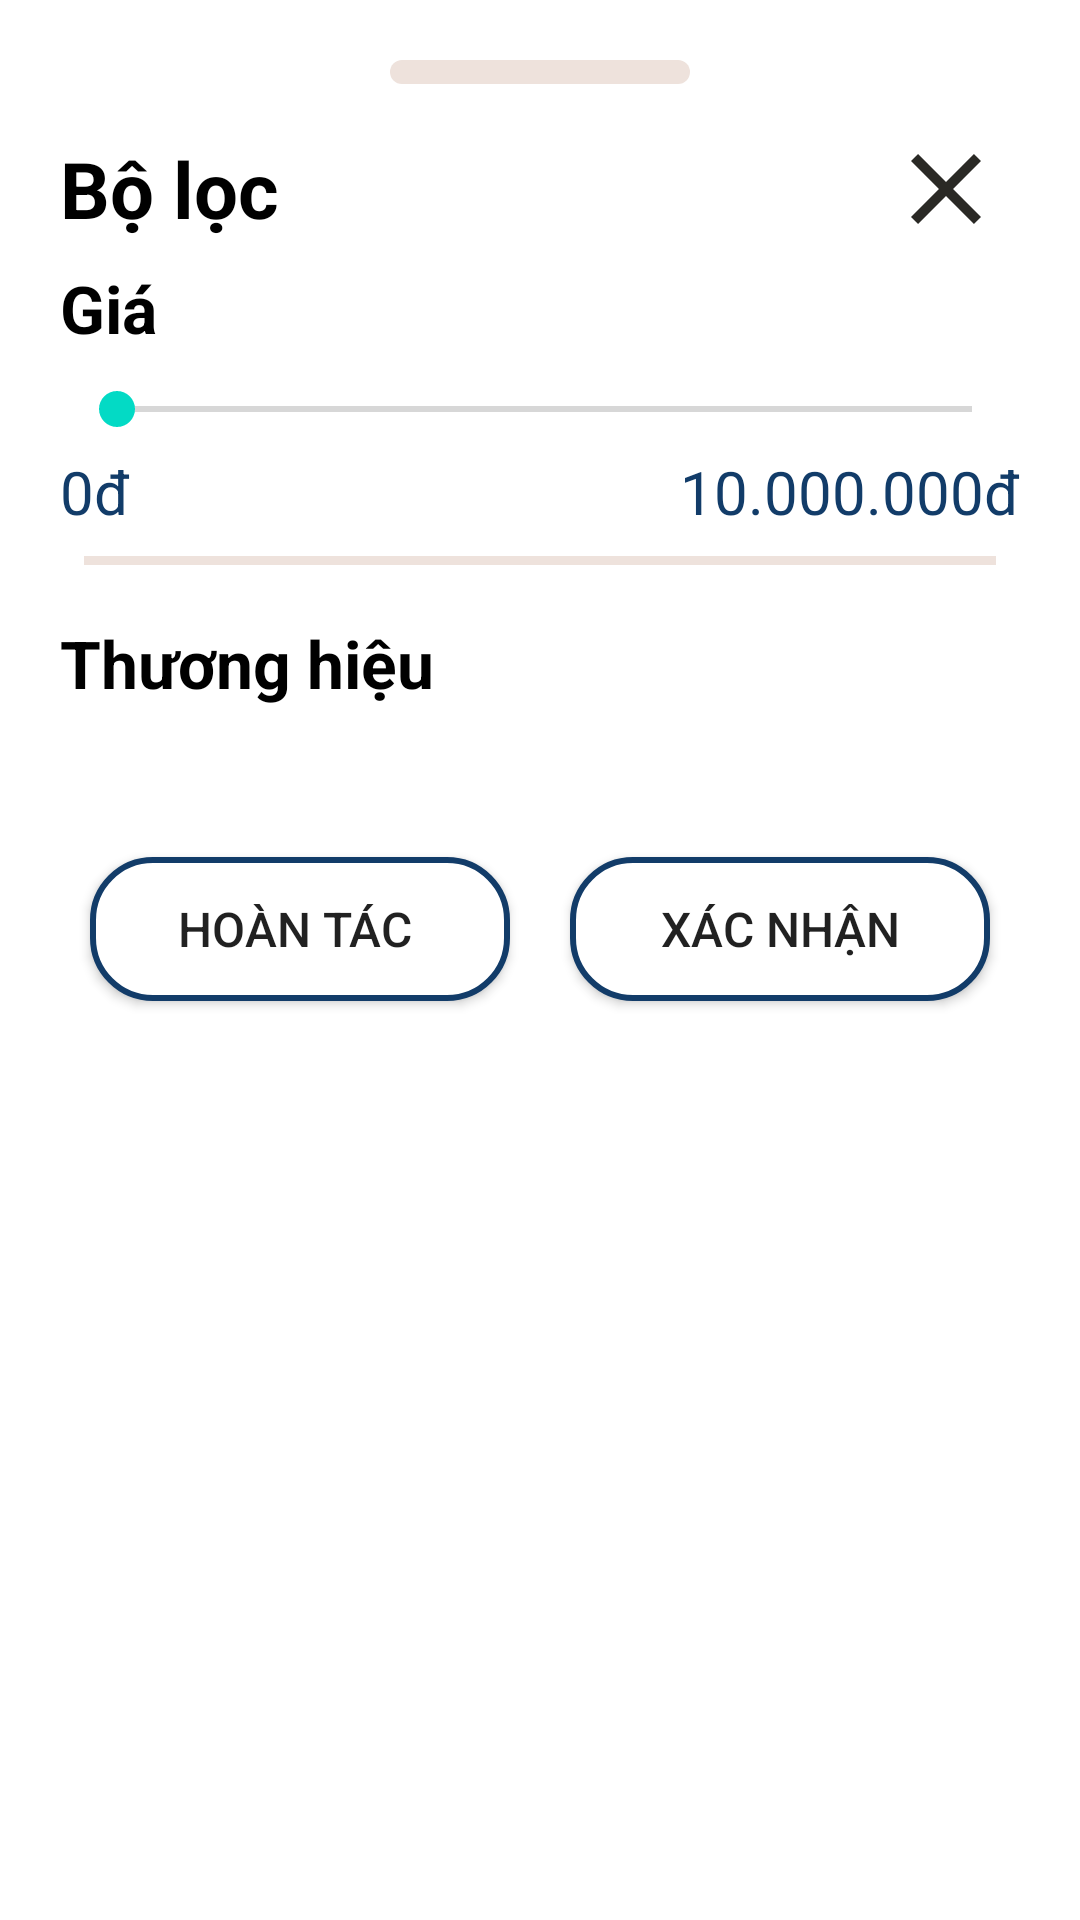

Icon click points for this 1080px x 1920px phone screenshot, format [x,y]:
close: [946,189]
